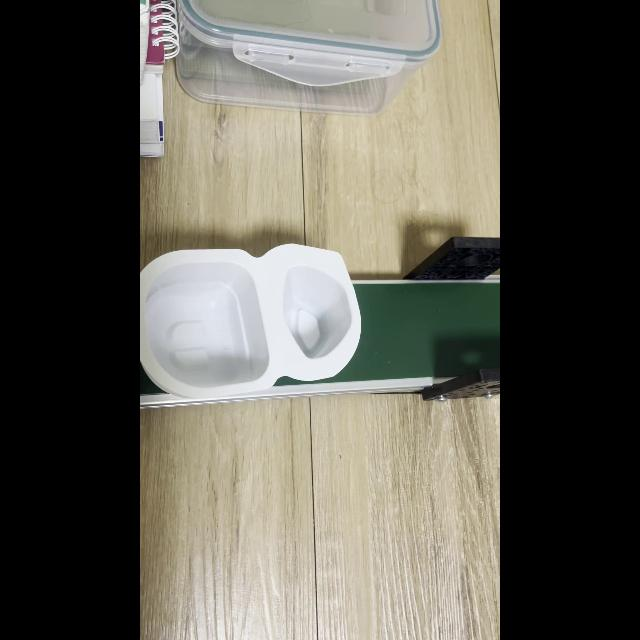clean: (140, 245, 360, 397)
